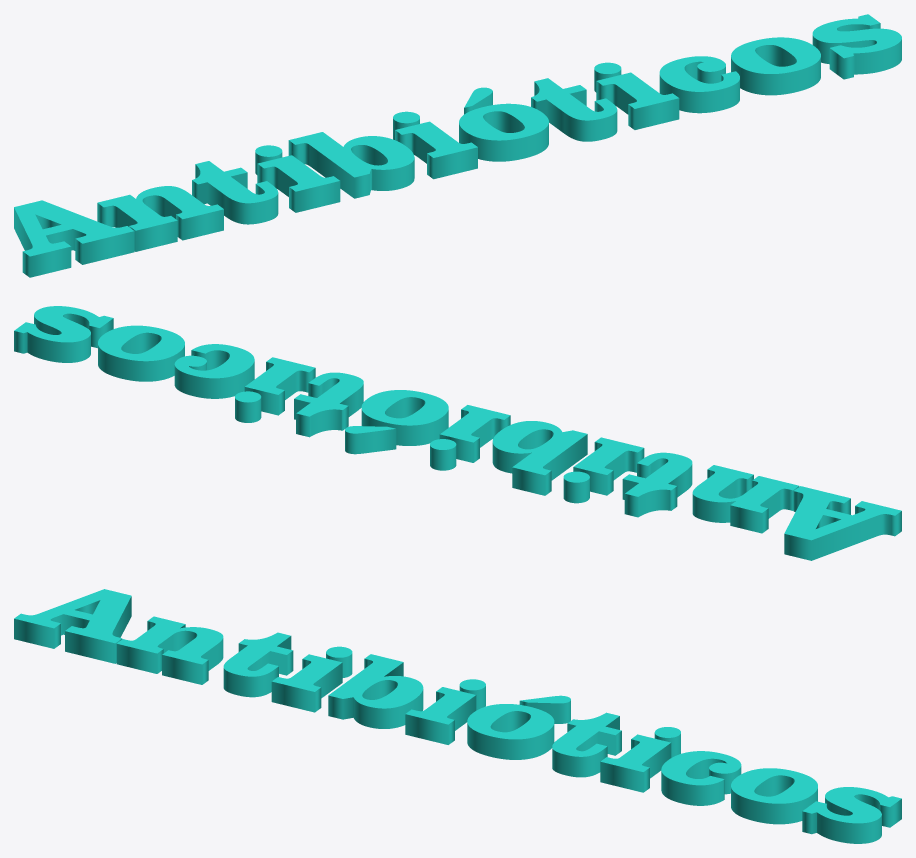
The model's file is AntibioticsTxt.fbx.
3 views of the same model, one above another, from view 1: azimuth 30°, elevation 25°; view 2: azimuth 150°, elevation 25°; view 3: azimuth 330°, elevation 25° (orthographic). The views are drawn at different scales.
Parts seen in each view (by area): view 1: Text; view 2: Text; view 3: Text.
Part boxes in pixels (x1,y1,x2,y2): Text: (14,14,901,277); Text: (14,306,901,560); Text: (14,589,901,843).
Size of the model in its own units: 613 by 14.12 by 74.61.
